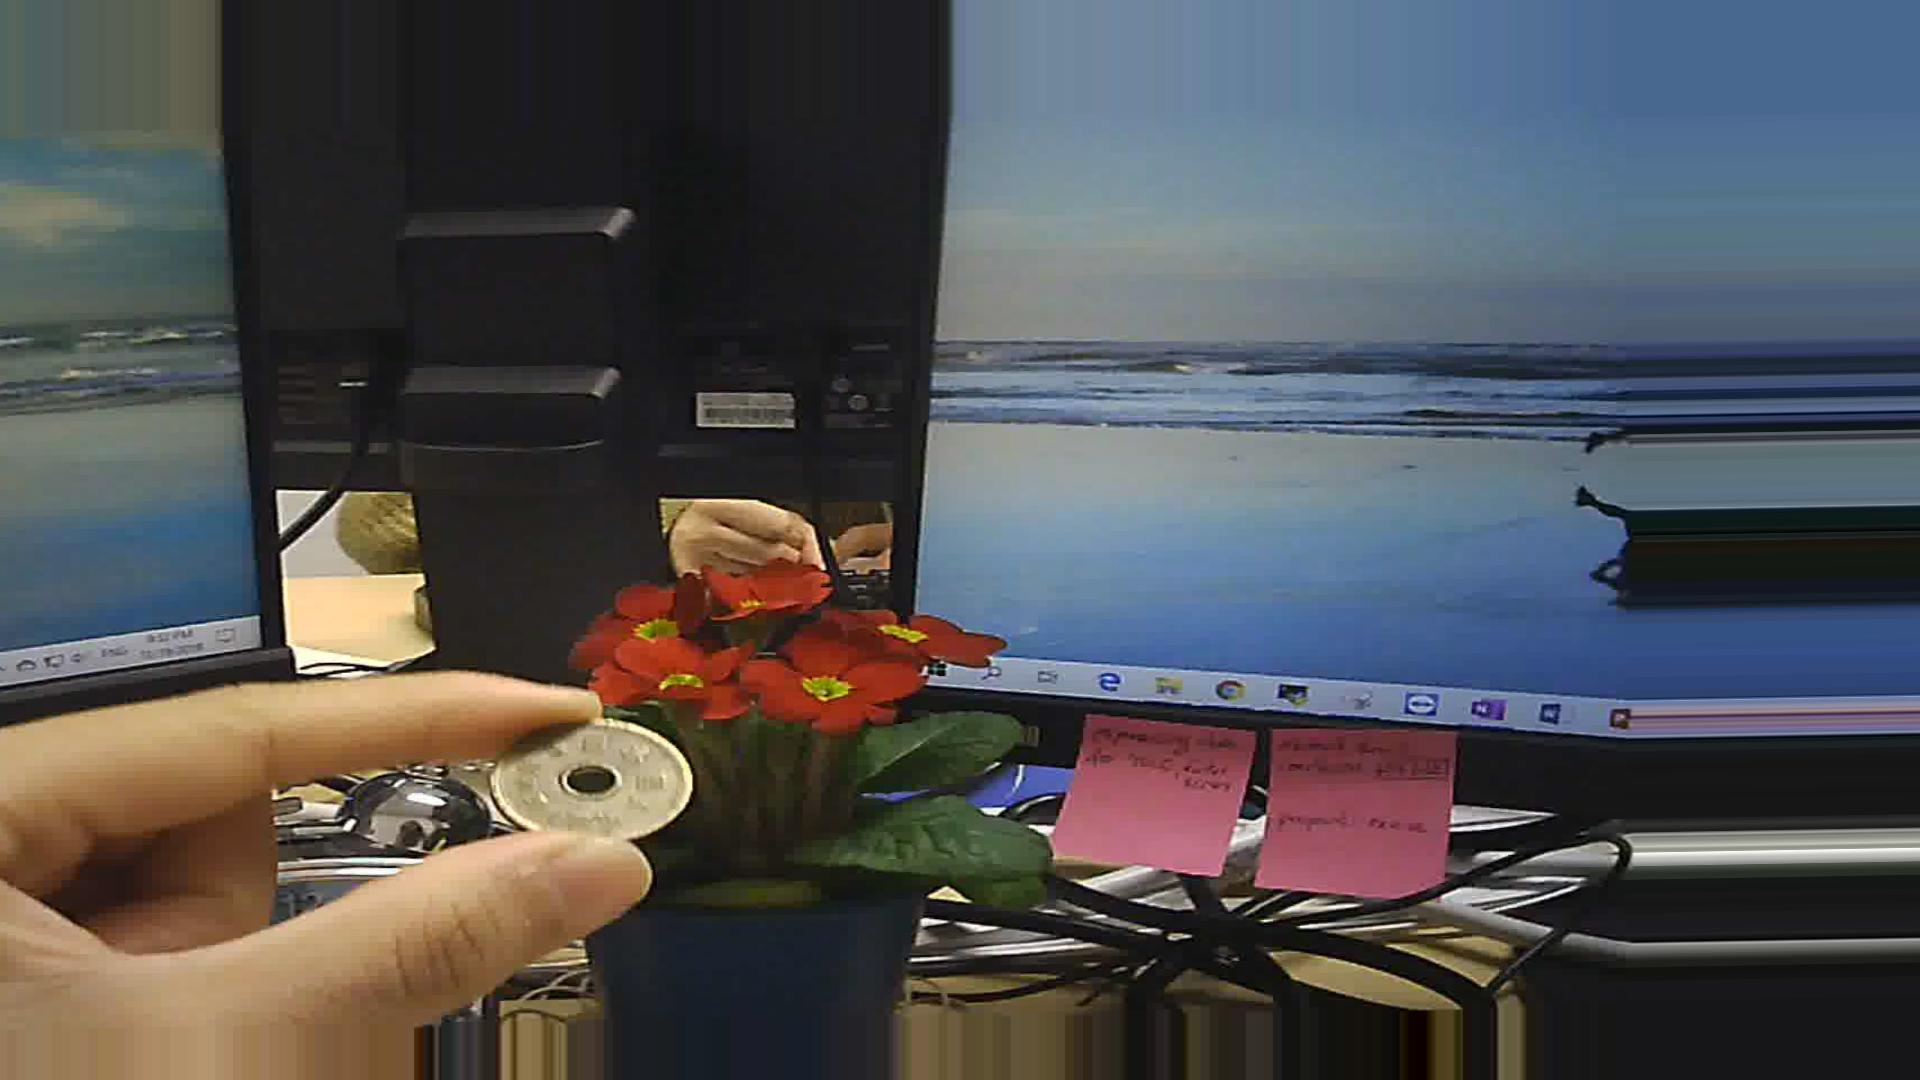5 Yen: (488, 703, 690, 851)
